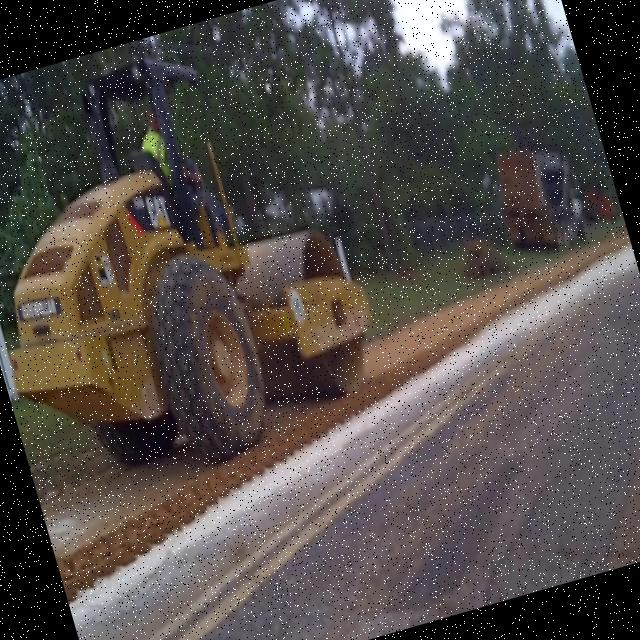Dump Truck: (484, 130, 592, 258)
Roller: (0, 11, 401, 513)
